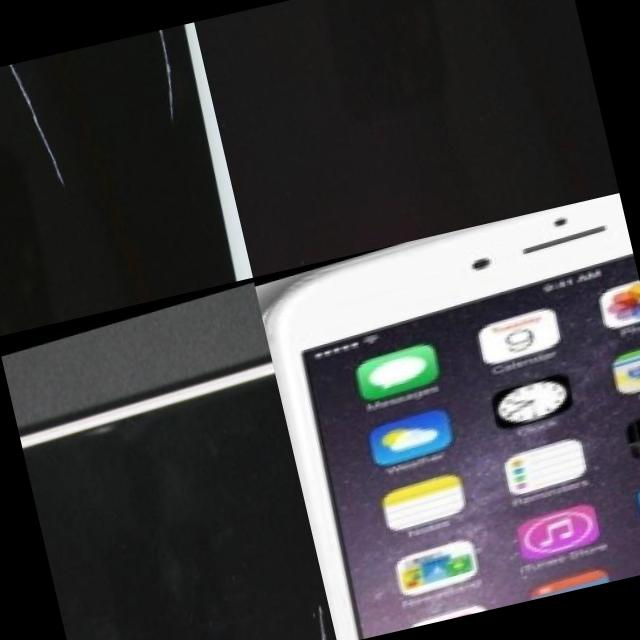scratch: (0, 55, 73, 194), (144, 27, 193, 140), (301, 599, 330, 640)
